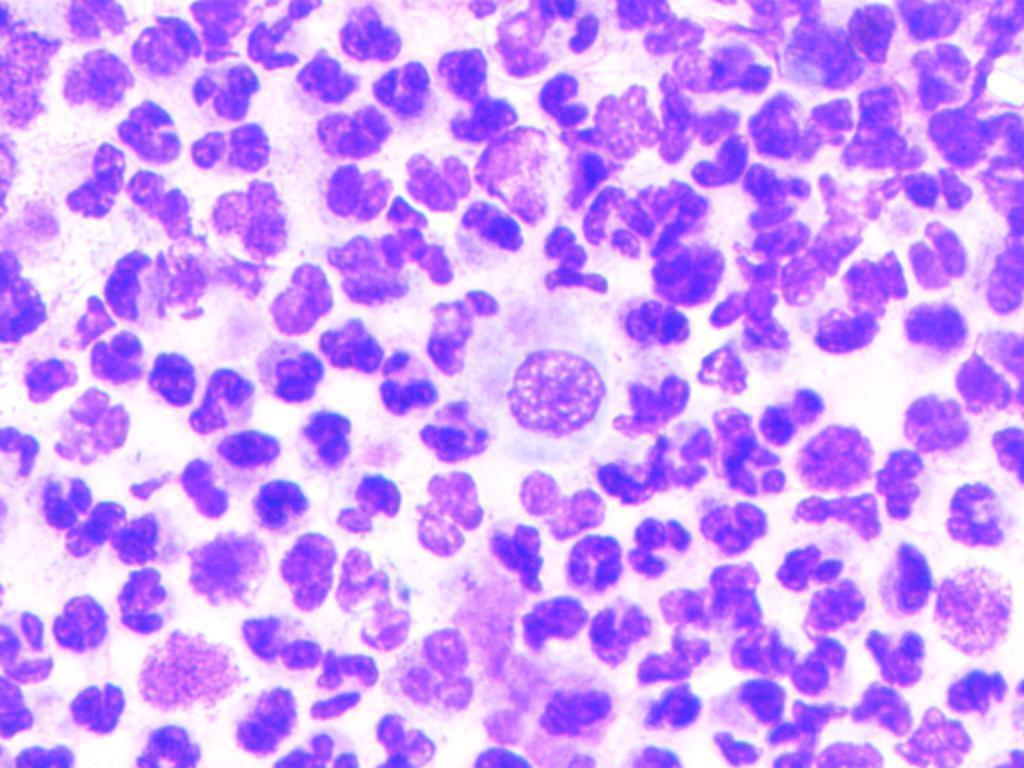epithelial: (486, 319, 613, 459)
neutrophil: (727, 676, 852, 768), (434, 42, 520, 152), (73, 244, 161, 349), (199, 180, 310, 262), (661, 550, 767, 632), (423, 460, 496, 578), (742, 93, 857, 163), (48, 384, 141, 470), (293, 102, 414, 166), (590, 442, 699, 512), (793, 424, 884, 504), (654, 77, 739, 162), (235, 604, 324, 684), (398, 624, 475, 716), (784, 632, 875, 708), (800, 296, 895, 368), (317, 158, 404, 236), (760, 522, 849, 598), (441, 198, 540, 266), (243, 334, 342, 402), (941, 468, 1020, 552), (523, 64, 610, 140), (107, 96, 191, 174), (627, 512, 710, 590), (652, 248, 747, 316), (773, 26, 864, 96), (1, 602, 67, 698), (481, 516, 558, 598), (277, 530, 348, 618), (875, 542, 946, 630), (577, 184, 660, 256), (892, 294, 981, 360), (901, 156, 978, 232), (331, 464, 410, 538), (610, 0, 712, 57), (63, 138, 128, 227), (896, 382, 969, 460), (309, 646, 386, 719), (320, 5, 418, 62), (124, 169, 196, 246), (712, 409, 780, 490), (613, 292, 698, 356), (311, 314, 391, 382), (539, 218, 607, 297), (369, 342, 449, 408), (909, 39, 979, 114), (693, 496, 772, 560), (219, 690, 302, 750), (241, 0, 309, 73), (689, 138, 762, 204), (187, 124, 281, 175), (211, 418, 280, 486), (907, 220, 974, 288), (54, 47, 131, 106), (533, 0, 606, 62), (139, 12, 206, 79), (133, 714, 216, 768), (372, 710, 449, 768), (88, 321, 149, 393), (609, 371, 693, 423), (860, 626, 938, 682), (521, 593, 589, 657), (111, 570, 174, 638), (761, 386, 828, 448), (677, 61, 772, 104), (402, 150, 469, 210), (49, 596, 108, 664), (35, 472, 98, 534), (67, 676, 128, 740), (274, 727, 367, 768), (634, 678, 707, 730), (294, 53, 363, 108), (369, 60, 432, 120), (802, 571, 866, 630), (594, 604, 653, 668), (837, 250, 901, 308), (871, 443, 923, 514), (166, 456, 223, 520), (748, 161, 808, 221), (938, 666, 1009, 716), (145, 348, 198, 414), (536, 688, 613, 732), (567, 534, 625, 592), (195, 65, 259, 117), (298, 412, 357, 464), (17, 352, 76, 403), (69, 499, 129, 549), (59, 0, 132, 40), (111, 510, 168, 561), (729, 623, 794, 667), (253, 476, 306, 526), (20, 742, 93, 768)
